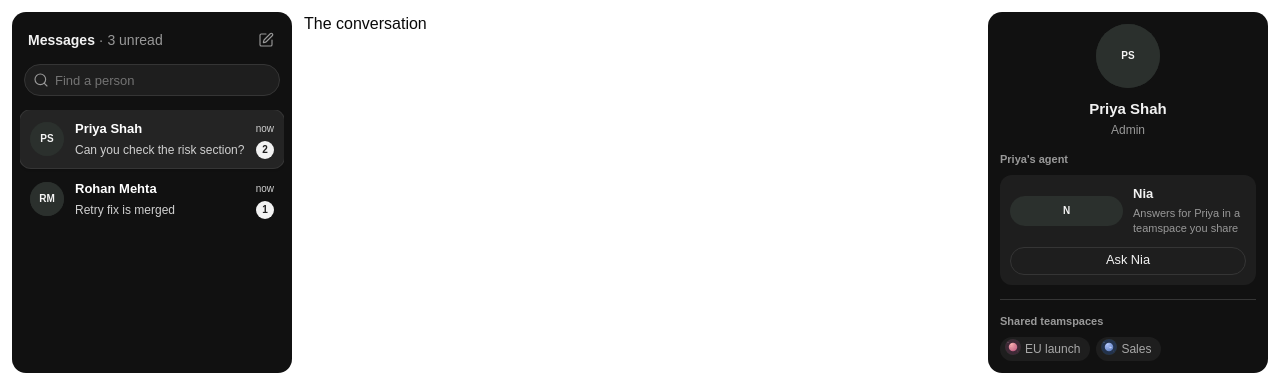
Test case: Messages › finds a person, and starts a conversation with someone new
The image size is (1280, 390).
In the search field labelled "Find a person": (164, 80) [49,64,279,96], type "ken"
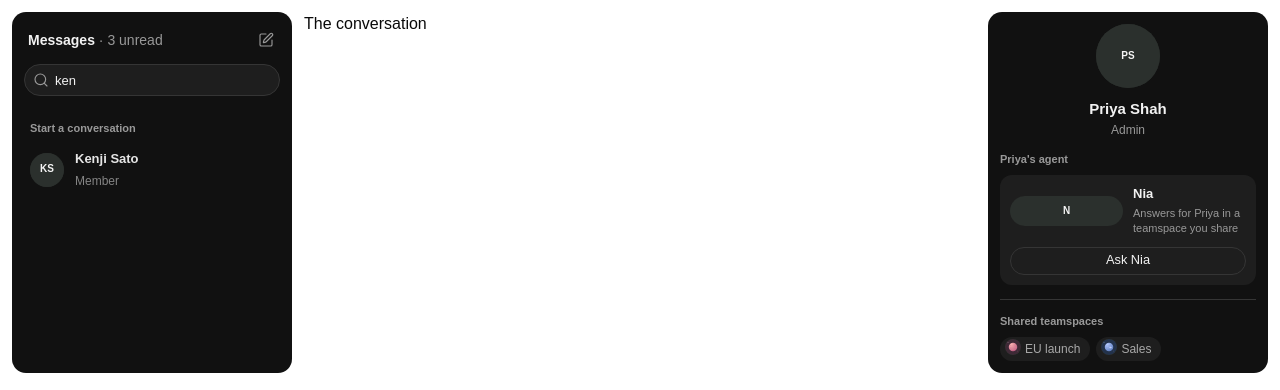
Click the button with aria-label "Message Kenji Sato": (47, 170) [20,140,284,198]
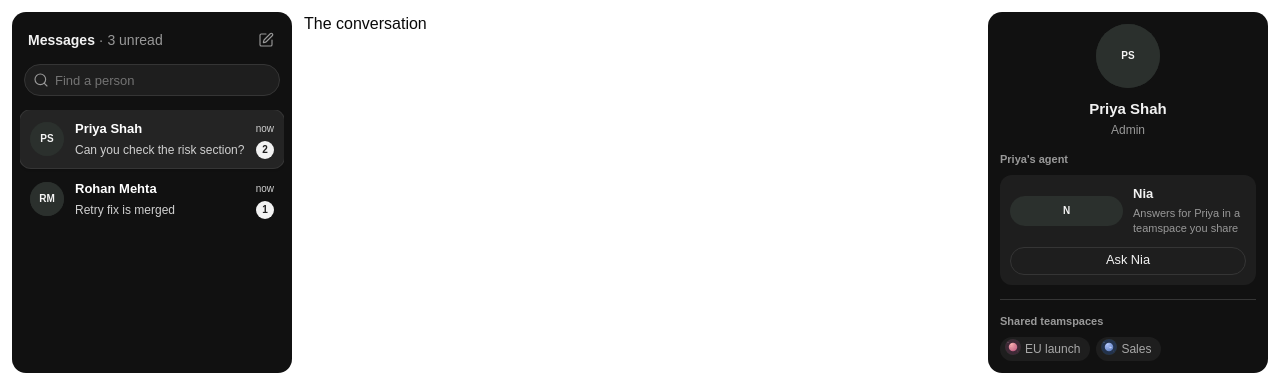
In the search field labelled "Find a person": (164, 80) [49,64,279,96], type "nobody"
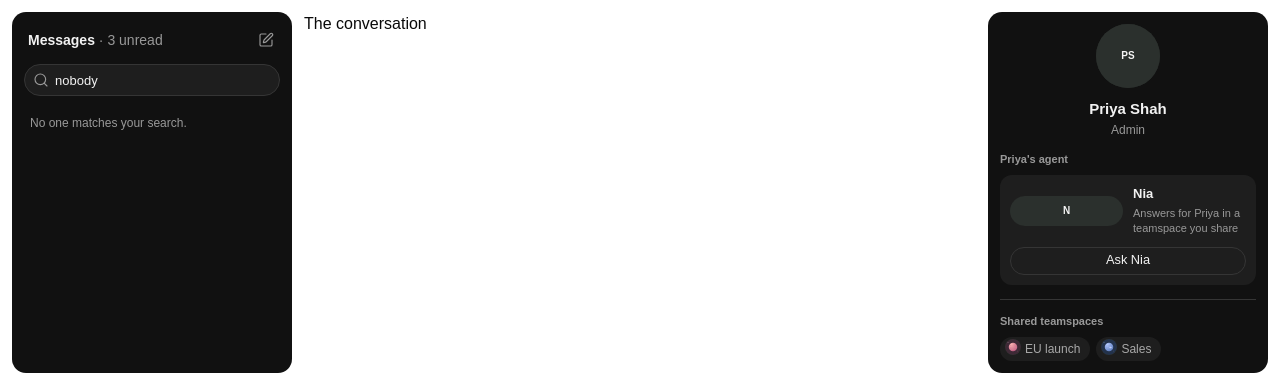
Expected: the text "No one matches your search." is shown, [30,116,187,130]
